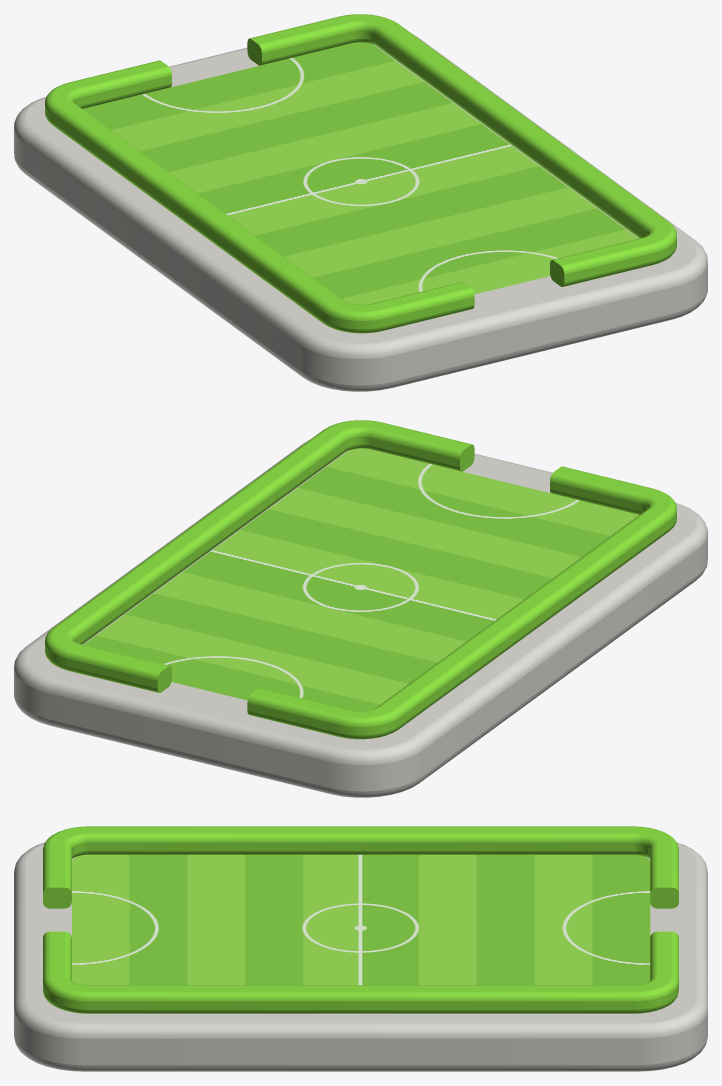
File: Table.glb
3 views of the same model, one above another, from view 1: azimuth 30°, elevation 25°; view 2: azimuth 150°, elevation 25°; view 3: azimuth 270°, elevation 25° (orthographic).
Parts seen in each view (by area): view 1: Field, Base, Rim; view 2: Field, Base, Rim; view 3: Field, Base, Rim.
Part boxes in pixels (bbox=[...]): Field: bbox=[83, 42, 638, 304]; Base: bbox=[14, 34, 707, 391]; Rim: bbox=[45, 14, 676, 333]; Field: bbox=[83, 448, 638, 710]; Base: bbox=[14, 440, 707, 797]; Rim: bbox=[45, 420, 676, 739]; Field: bbox=[72, 854, 650, 985]; Base: bbox=[14, 842, 707, 1071]; Rim: bbox=[43, 826, 678, 1013].
Bounding box in the file's own units: 8 × 1.3 × 12.
3 materials, 1 textured.
